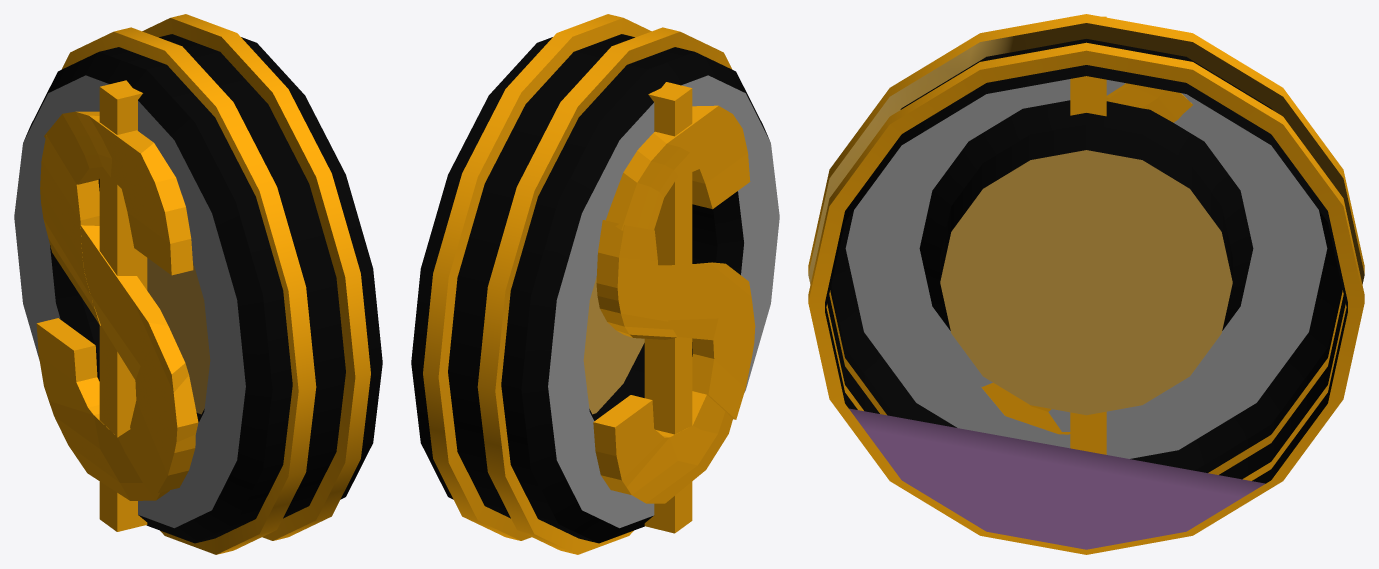
Rendered from RodasChiques.fbx.
3 renders of one model, left to right at view 1: azimuth 30°, elevation 25°; view 2: azimuth 150°, elevation 25°; view 3: azimuth 270°, elevation 25°, orthographic. The views are drawn at different scales.
Visible parts, largest first — view 1: Interior.010; view 2: Interior.010; view 3: Interior.010.
Part boxes in pixels (box(x1,y1,x2,y2)): Interior.010: box(14, 14, 382, 554); Interior.010: box(411, 14, 779, 554); Interior.010: box(808, 14, 1364, 554).
Bounding box in the file's own units: 15.55 × 48.29 × 48.29.
1 material, 1 textured.
